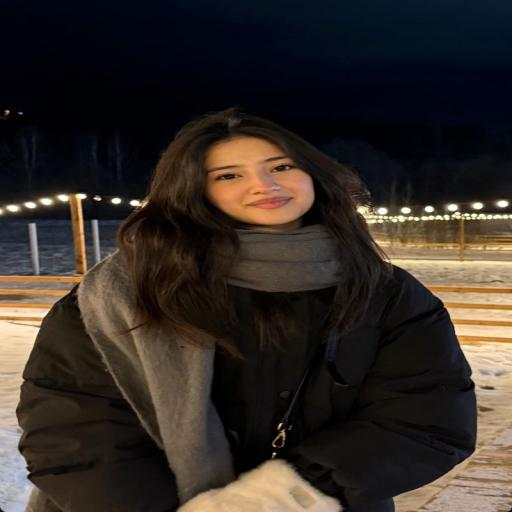crosswalk: (16, 108, 476, 512)
